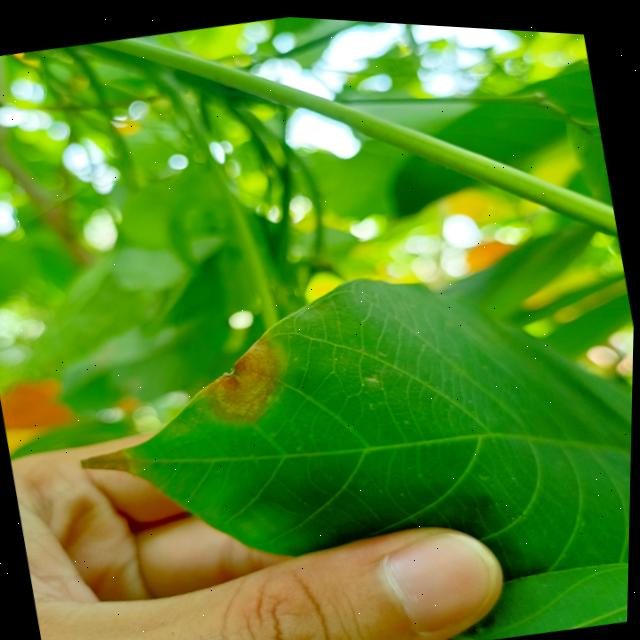Leaf-Blight: (194, 326, 290, 425), (80, 443, 136, 477)
